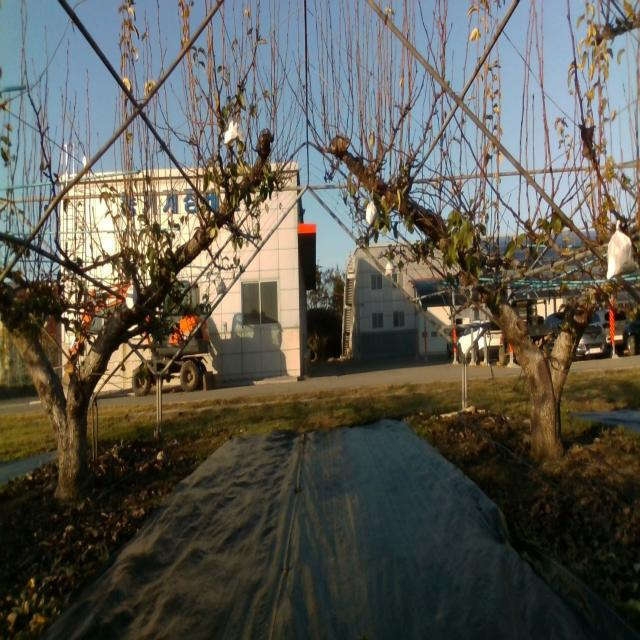pearbags: (606, 223, 636, 282), (225, 116, 244, 146), (125, 281, 138, 311), (365, 201, 378, 226), (216, 274, 227, 294)
